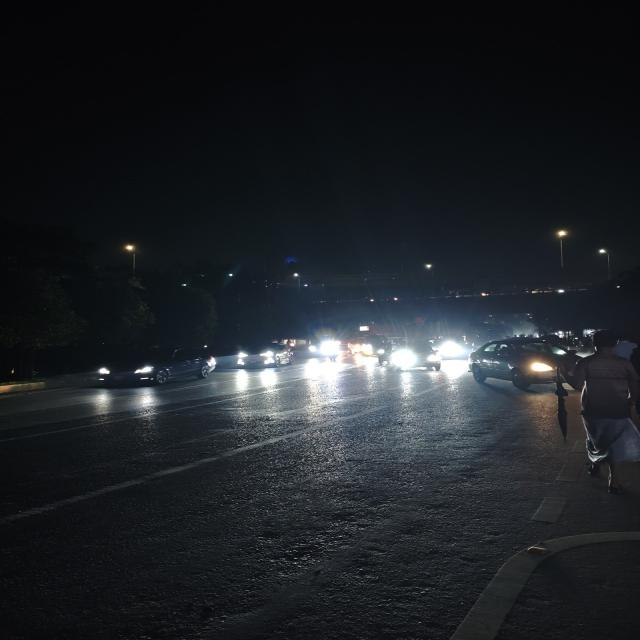car: (461, 335, 589, 386), (93, 344, 219, 386), (231, 340, 293, 370), (391, 344, 445, 373)
motorcycle: (375, 341, 393, 369), (323, 342, 341, 363)
